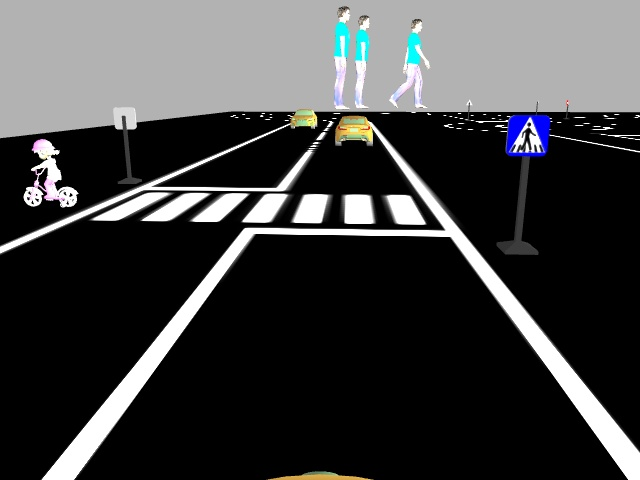Crosswalk: (506, 114, 549, 156)
Pedestrian: (20, 137, 81, 209)
